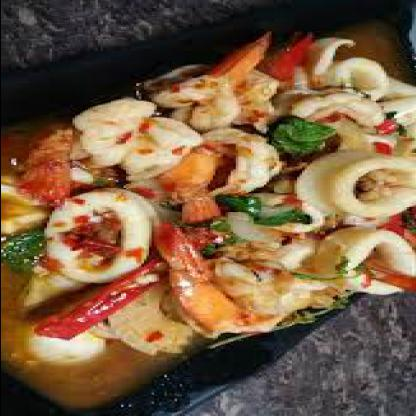Yum: (2, 16, 406, 397)
